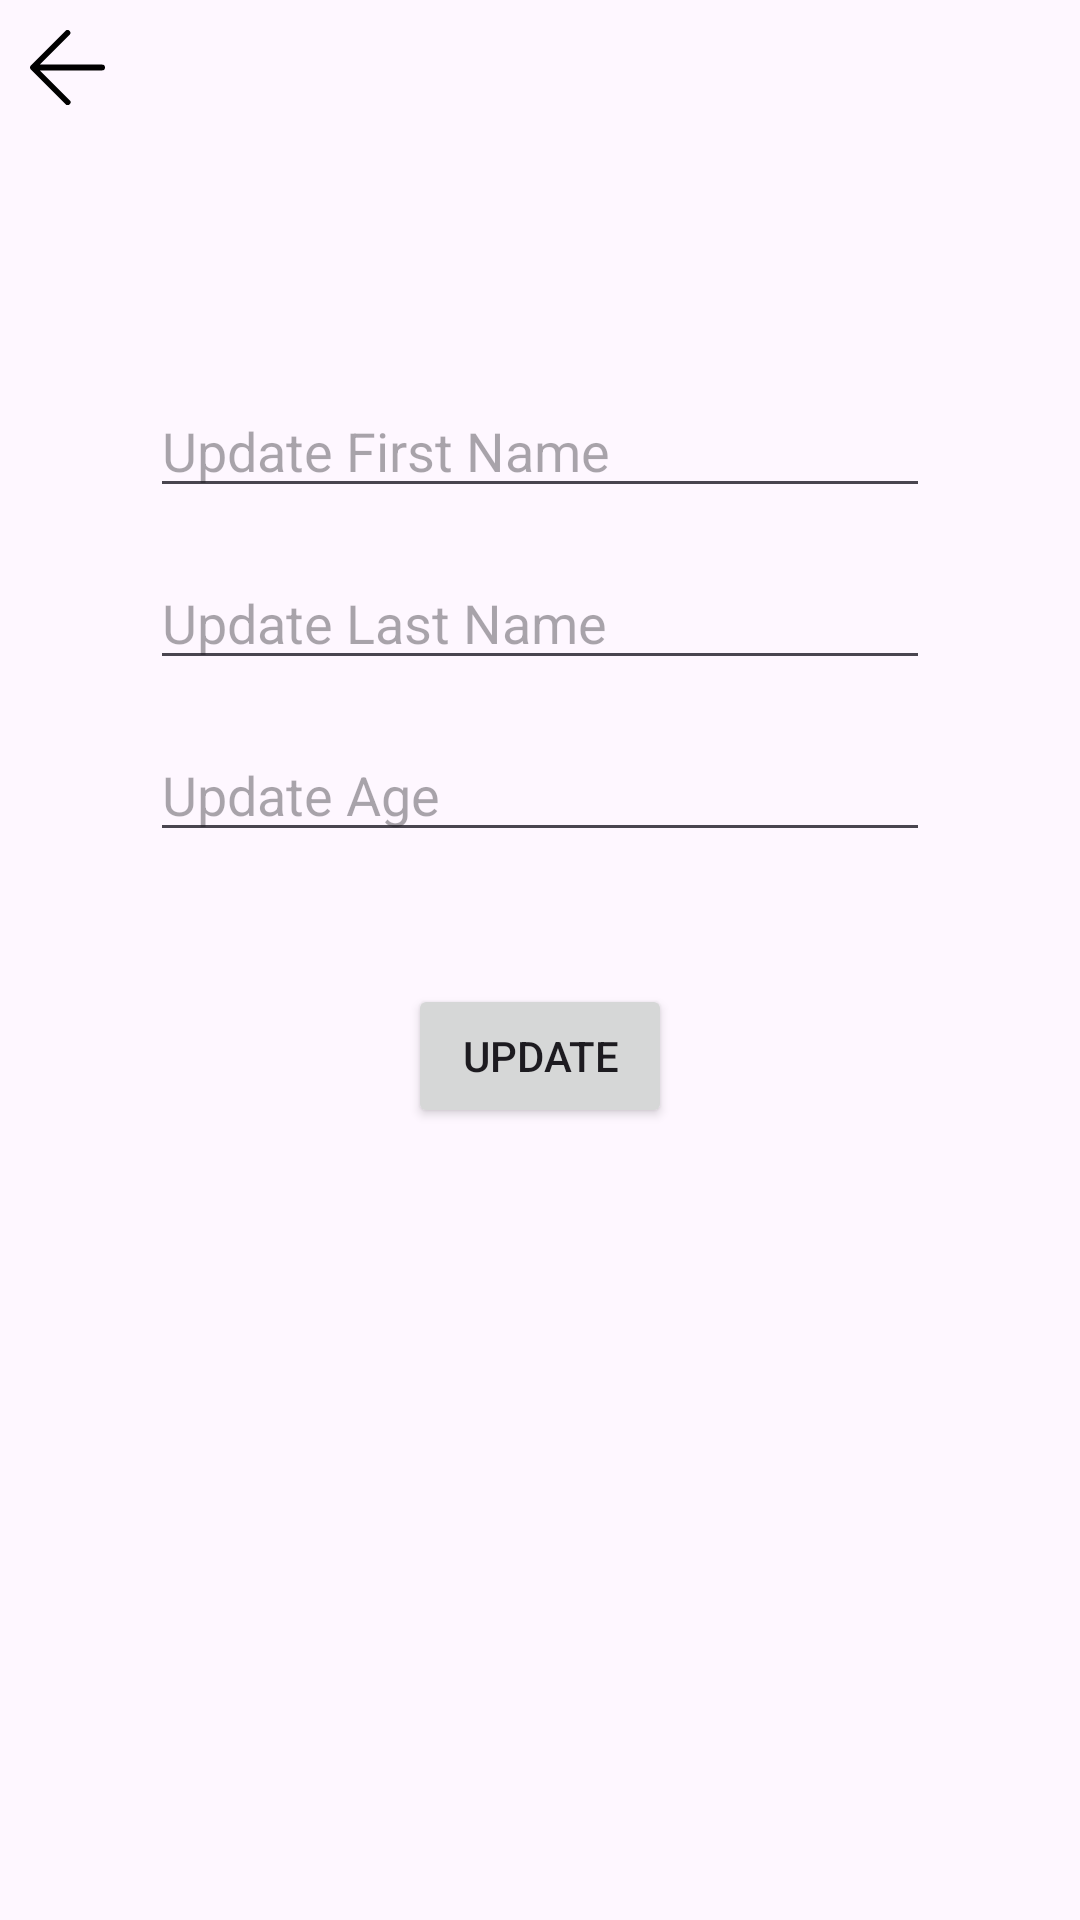

Screen size 1080x1920. Icon name, then its box in pixels as [left=x1, top=y1, right=x2, bottom=y2]:
back arrow: [left=30, top=30, right=105, bottom=105]
